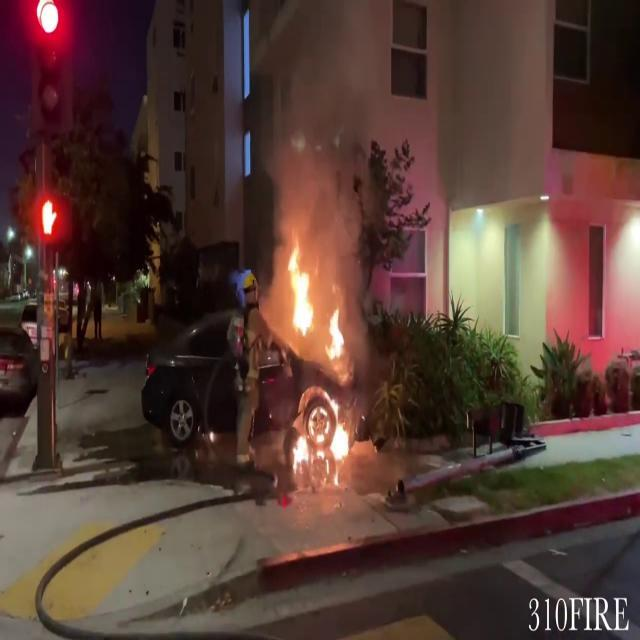Fire: (274, 234, 362, 536)
Smoke: (252, 0, 387, 260)
